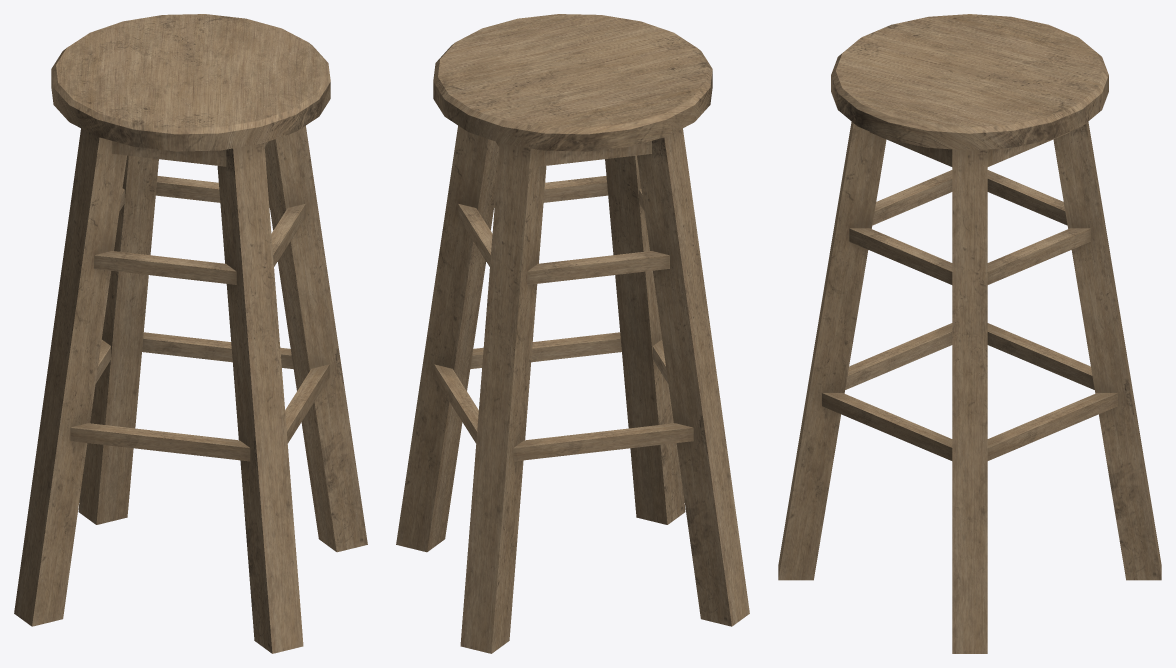
Rendered from wooden_stool_low-poly.glb.
3 renders of one model, left to right at view 1: azimuth 30°, elevation 25°; view 2: azimuth 150°, elevation 25°; view 3: azimuth 270°, elevation 25°, orthographic.
Visible parts, largest first — view 1: stool; view 2: stool; view 3: stool.
Boxes of the visible parts, left/top/right/bottom form: stool: left=14, top=14, right=367, bottom=653; stool: left=396, top=14, right=749, bottom=653; stool: left=778, top=14, right=1161, bottom=653.
Size of the model in its own units: 26.08 by 37.69 by 26.08.
Materials: 1 (1 with a texture image).
